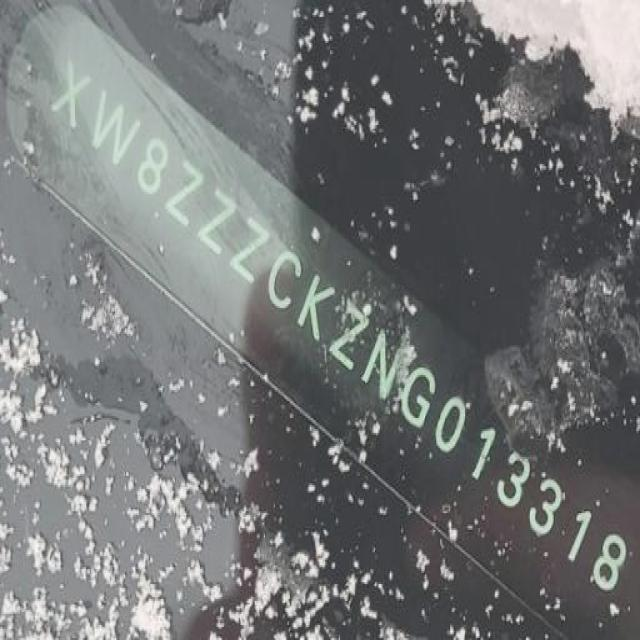0: (426, 385, 474, 467)
1: (556, 496, 598, 574), (461, 417, 502, 490)
3: (522, 471, 572, 547), (490, 440, 538, 518)
8: (128, 118, 178, 210), (581, 522, 631, 607)
C: (254, 235, 310, 318)
G: (394, 357, 442, 438)
K: (292, 266, 341, 349)
N: (357, 326, 409, 411)
W: (77, 77, 151, 184)
X: (43, 47, 100, 140)
Z: (157, 147, 212, 240), (321, 296, 376, 382), (190, 178, 245, 262), (222, 204, 275, 290)
